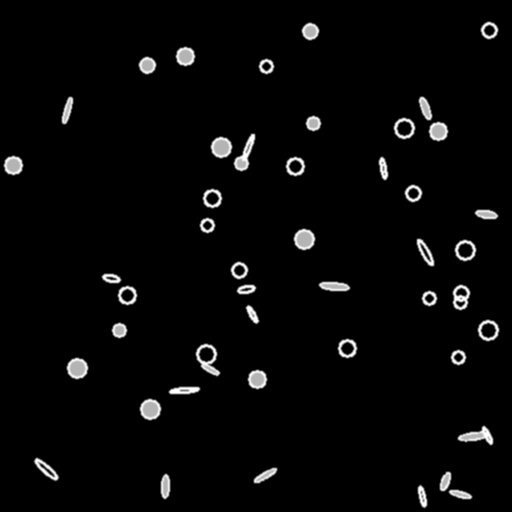pseudomonas: (33, 457, 59, 481), (415, 238, 435, 266), (253, 467, 277, 483), (241, 134, 255, 160), (418, 96, 432, 120), (61, 97, 73, 123), (438, 471, 452, 491), (459, 431, 487, 441), (200, 362, 220, 376), (245, 305, 259, 323), (319, 282, 349, 290), (481, 425, 493, 445), (170, 386, 198, 394), (475, 209, 497, 219), (417, 485, 427, 507), (450, 489, 470, 499), (237, 284, 255, 294), (379, 157, 387, 179), (103, 273, 119, 283), (162, 475, 168, 497)
synechocystis: (395, 119, 413, 137), (197, 345, 215, 363), (68, 359, 86, 377), (479, 321, 497, 339), (295, 230, 313, 248), (456, 241, 474, 259), (212, 138, 230, 156), (141, 400, 159, 418), (339, 340, 355, 356), (249, 371, 265, 387), (287, 158, 303, 174), (5, 157, 21, 173), (119, 287, 135, 303), (177, 48, 193, 64), (204, 190, 220, 206), (430, 123, 446, 139), (482, 23, 496, 37), (232, 263, 246, 277), (303, 24, 317, 38), (406, 186, 420, 200), (140, 58, 154, 72), (454, 286, 468, 300), (113, 324, 125, 336), (201, 219, 213, 231), (454, 296, 466, 308), (307, 117, 319, 129), (423, 292, 435, 304), (452, 351, 464, 363), (260, 60, 272, 72), (235, 157, 247, 169)
